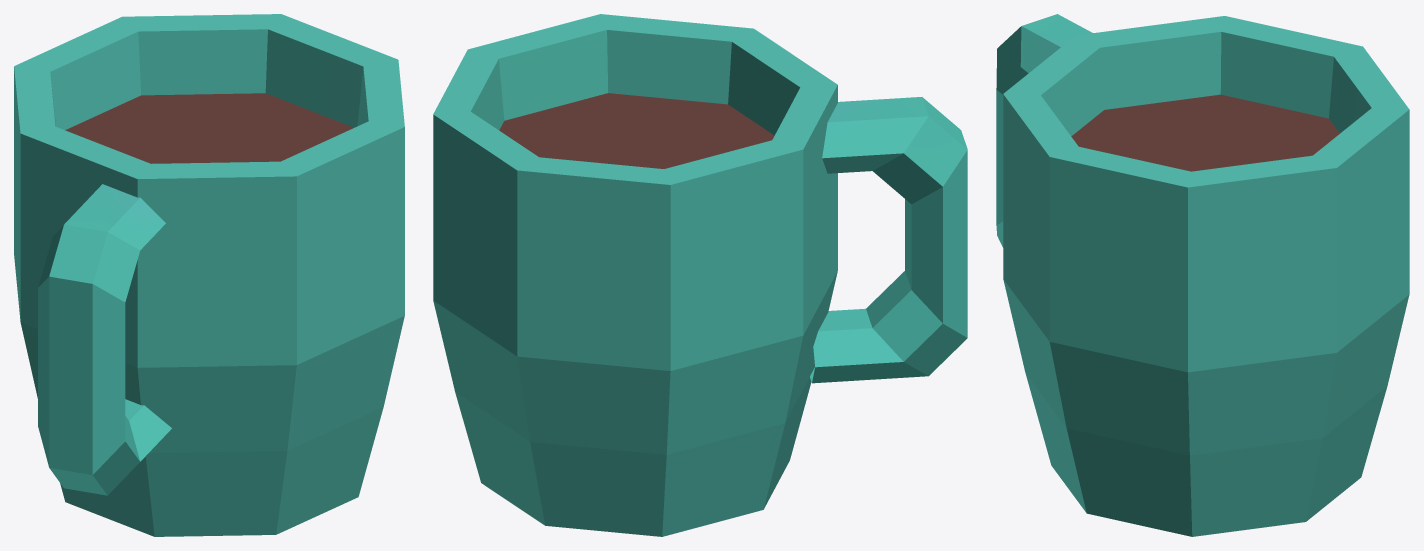
Rendered from coffecup.fbx.
3 views of the same model, side by side, from view 1: azimuth 30°, elevation 25°; view 2: azimuth 150°, elevation 25°; view 3: azimuth 270°, elevation 25° (orthographic). The views are drawn at different scales.
Visible parts, largest first — view 1: Cylinder.027; view 2: Cylinder.027; view 3: Cylinder.027.
Boxes of the visible parts, bbox=[...] form: Cylinder.027: bbox=[14, 14, 404, 536]; Cylinder.027: bbox=[433, 14, 967, 536]; Cylinder.027: bbox=[996, 14, 1409, 536].
Size of the model in its own units: 19.18 by 16.16 by 16.36.
